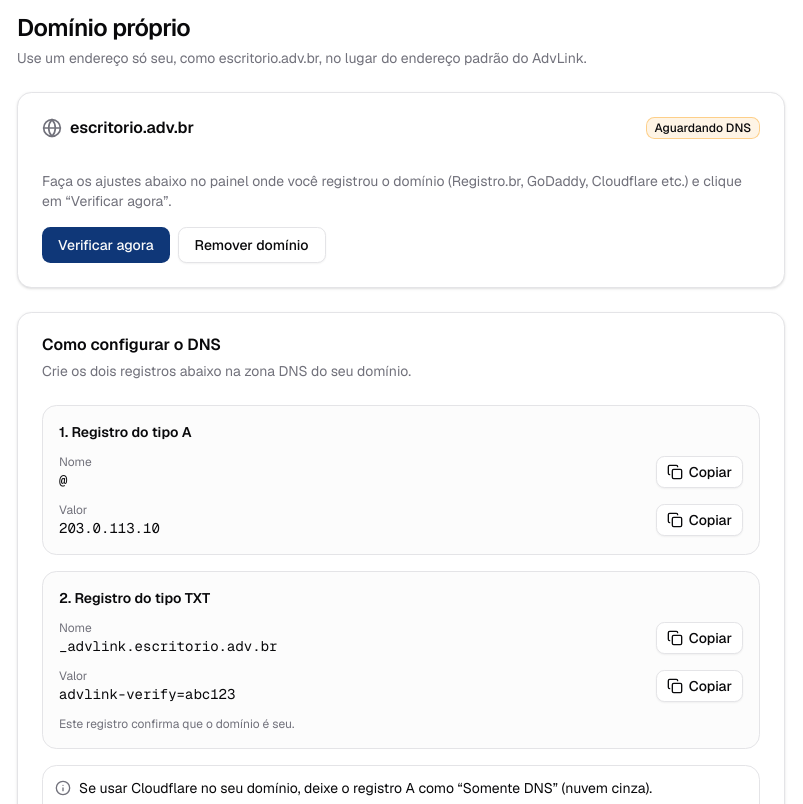
Test: DominioClient › shows verify failures (site not published)
Click the button "Verificar agora". click: (106, 245)
box: [42,227,170,263]
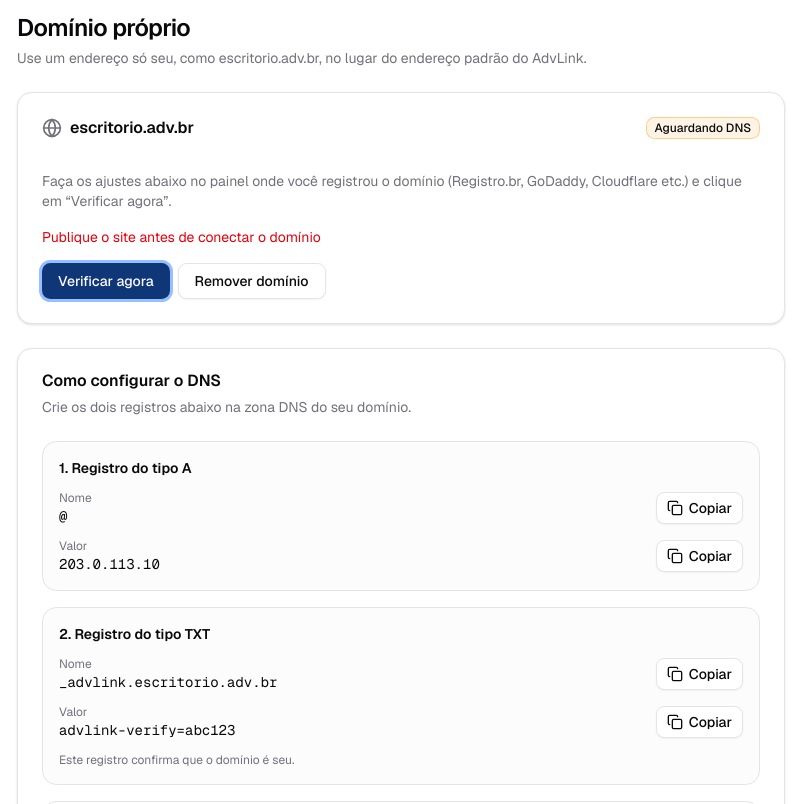
expect the message shows "Publique o site": met, box [42,228,321,246]
